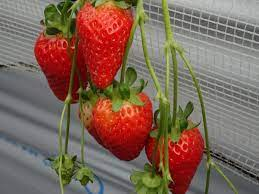ripe: (70, 1, 134, 90), (93, 89, 156, 169), (147, 114, 209, 192), (32, 26, 83, 110)
